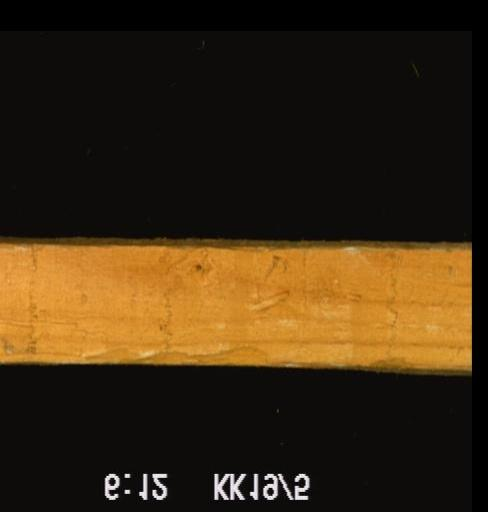small_knot: (187, 256, 207, 276)
wave: (71, 336, 278, 364)
